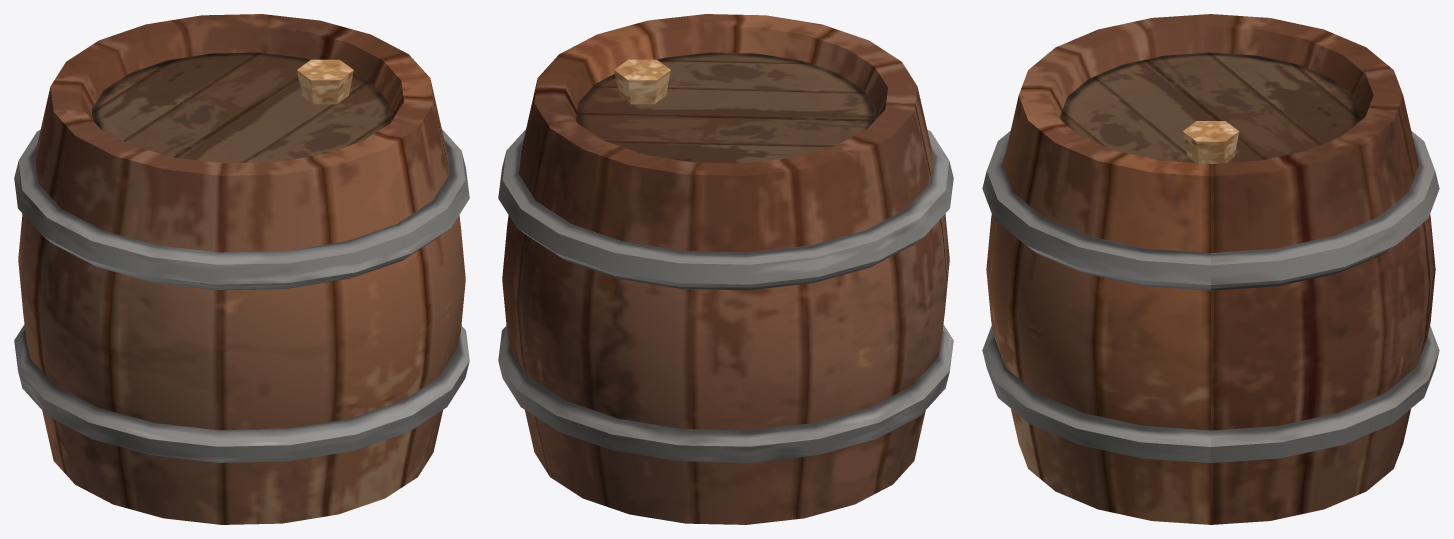
The model's file is Barrel0.fbx.
The picture shows the model from 3 angles, left to right: view 1: azimuth 30°, elevation 25°; view 2: azimuth 150°, elevation 25°; view 3: azimuth 270°, elevation 25°; orthographic projection.
Parts seen in each view (by area): view 1: Cylinder; view 2: Cylinder; view 3: Cylinder.
Part boxes in pixels (bbox=[...]): Cylinder: bbox=[14, 14, 469, 524]; Cylinder: bbox=[498, 14, 953, 524]; Cylinder: bbox=[982, 14, 1439, 524].
Bounding box in the file's own units: 238 × 203 × 238.
